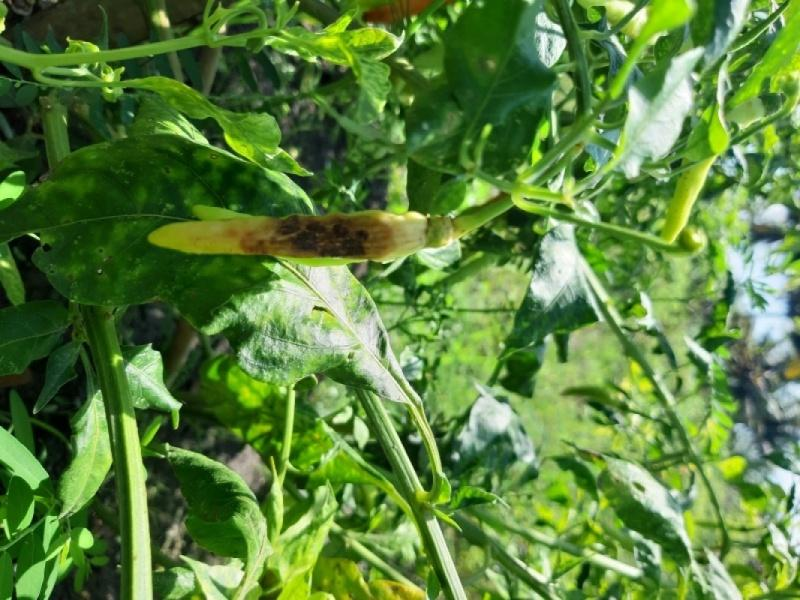antraknosa: (146, 206, 441, 267)
